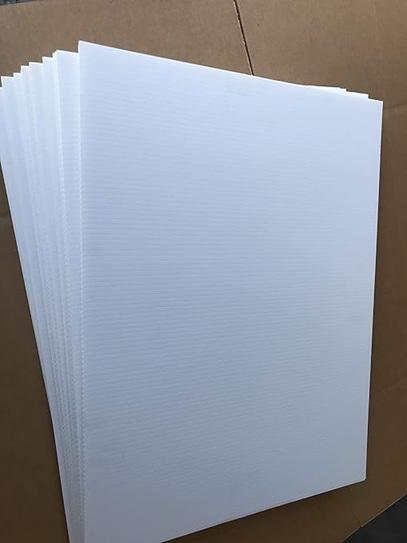plastic: (0, 41, 384, 542)
